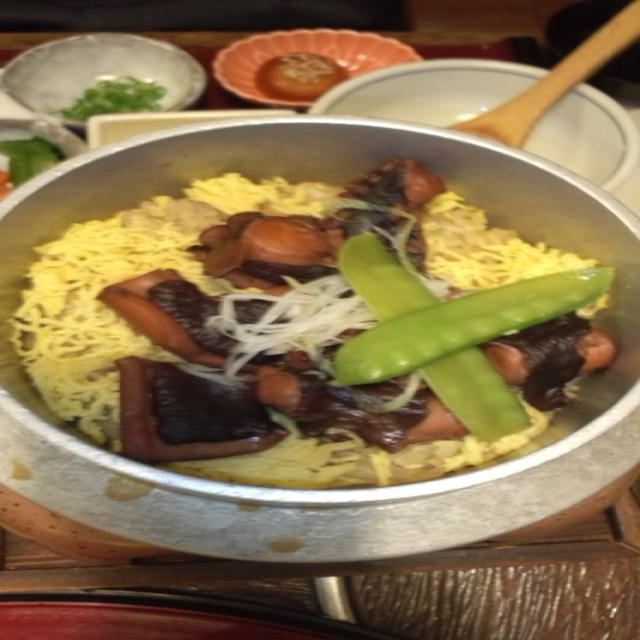鸡肉料理 含炸鸡: (0, 0, 535, 515)
